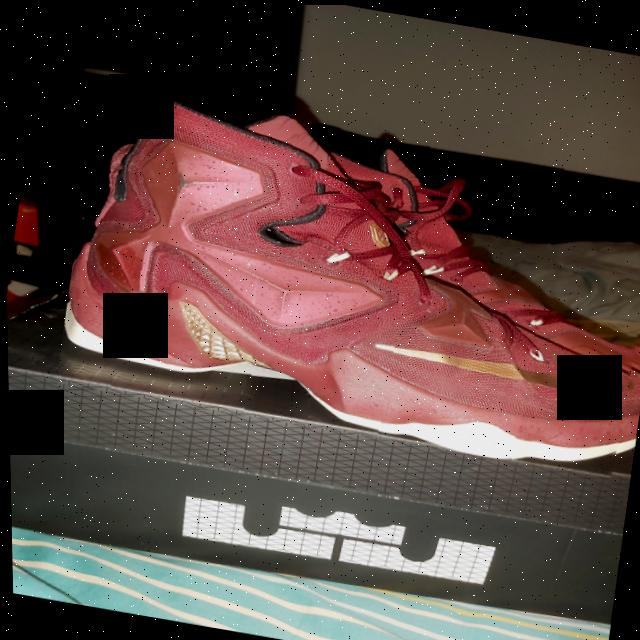shoe: (49, 69, 640, 479)
